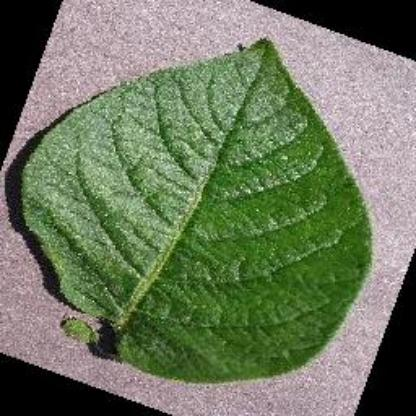Healthy-plant: (20, 30, 376, 386)
